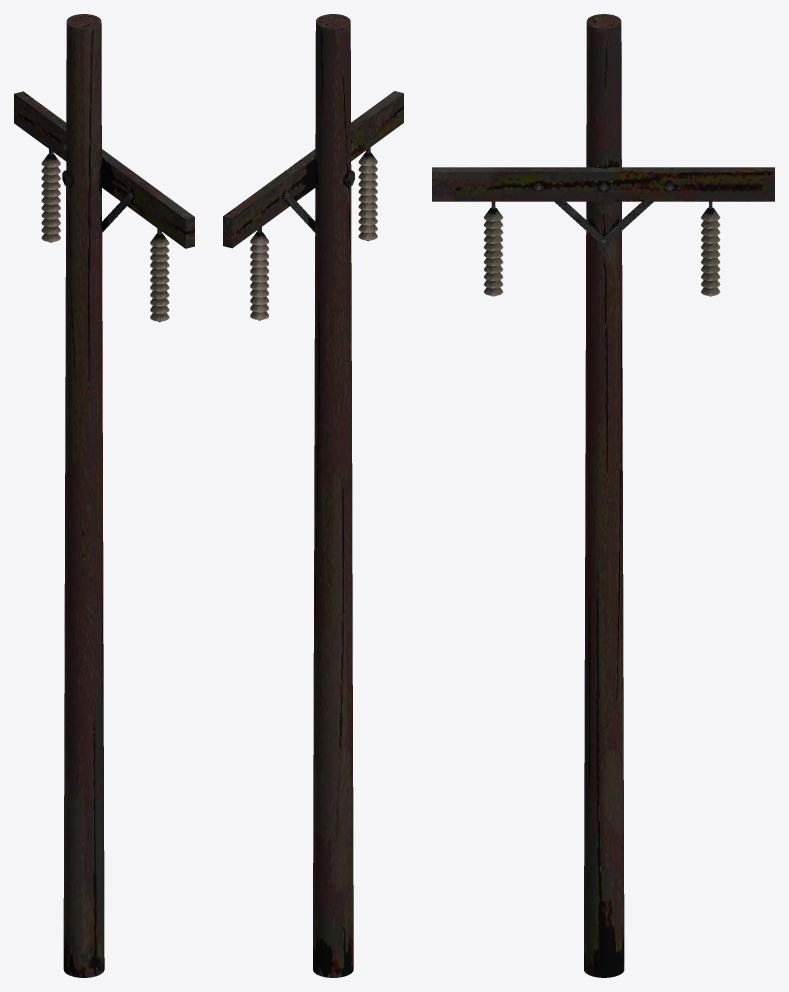
The picture shows the model from 3 angles, left to right: view 1: azimuth 30°, elevation 25°; view 2: azimuth 150°, elevation 25°; view 3: azimuth 270°, elevation 25°; orthographic projection.
Parts seen in each view (by area): view 1: body0_model0_lod0_mesh0; view 2: body0_model0_lod0_mesh0; view 3: body0_model0_lod0_mesh0.
Part boxes in pixels (x1,y1,x2,y2): body0_model0_lod0_mesh0: (14, 14, 194, 977); body0_model0_lod0_mesh0: (223, 14, 403, 977); body0_model0_lod0_mesh0: (432, 14, 774, 977).
Bounding box in the file's own units: 26.31 × 511 × 167.
Materials: 1 (1 with a texture image).
